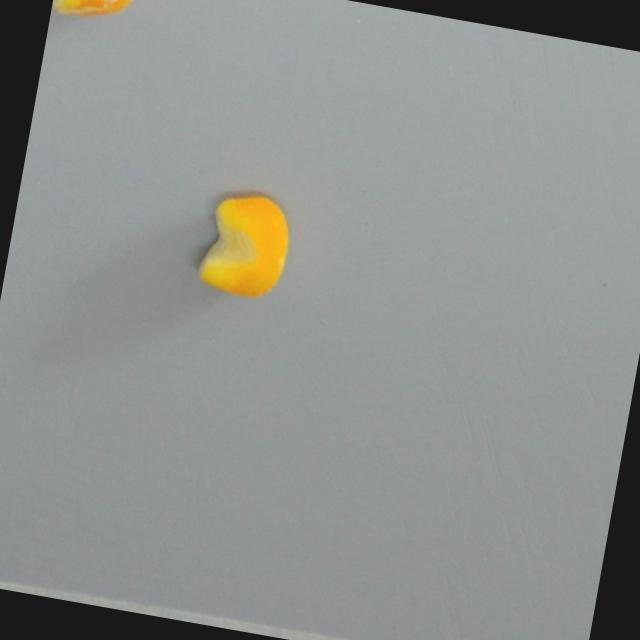no_canjicado: (192, 187, 297, 304)
pelicula: (49, 0, 139, 28)
